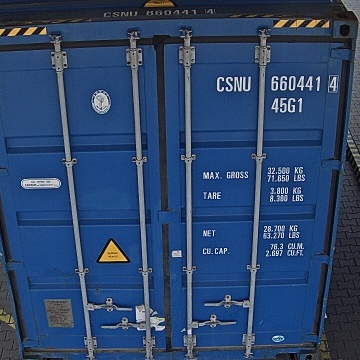serial_id: (217, 76, 338, 91)
